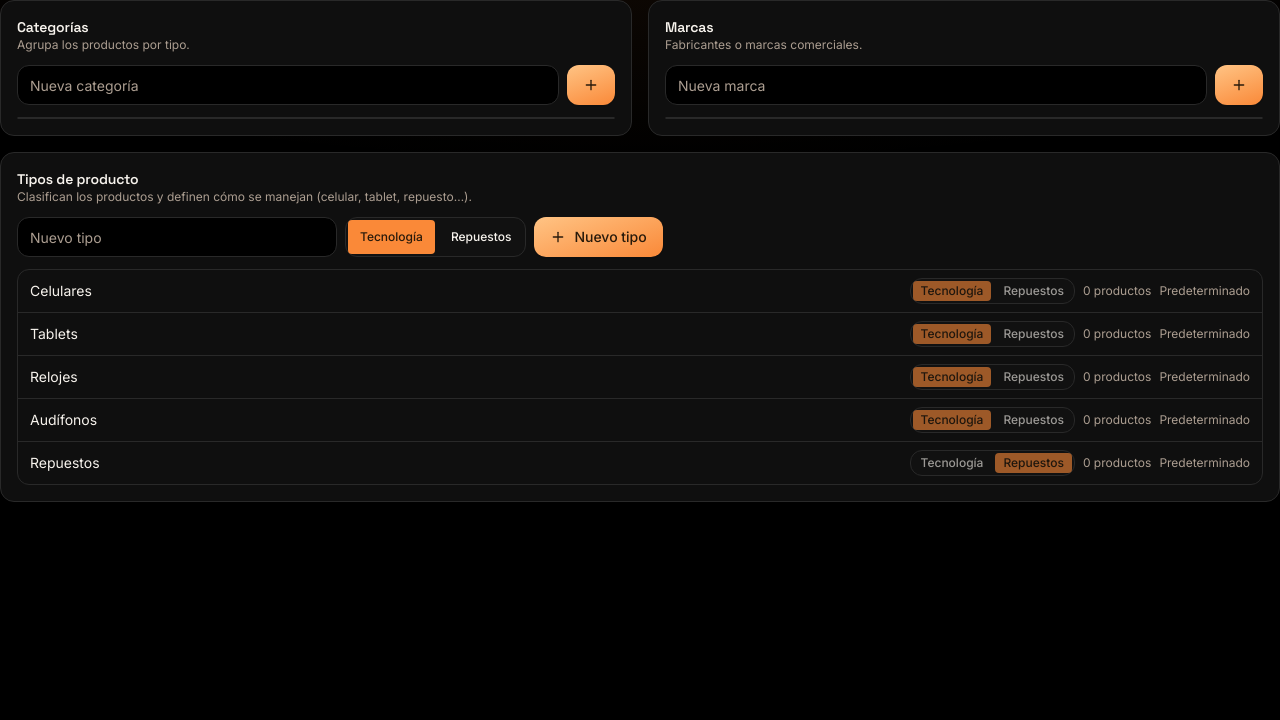
Test: Administración > Catálogos > Tipos de producto › un tipo nuevo se puede borrar si no tiene productos
This screenshot has width=1280, height=720.
Type "Parlantes" into the field with placeholder "Nuevo tipo".
click(177, 237); type("Parlantes")  # box [17, 217, 337, 257]
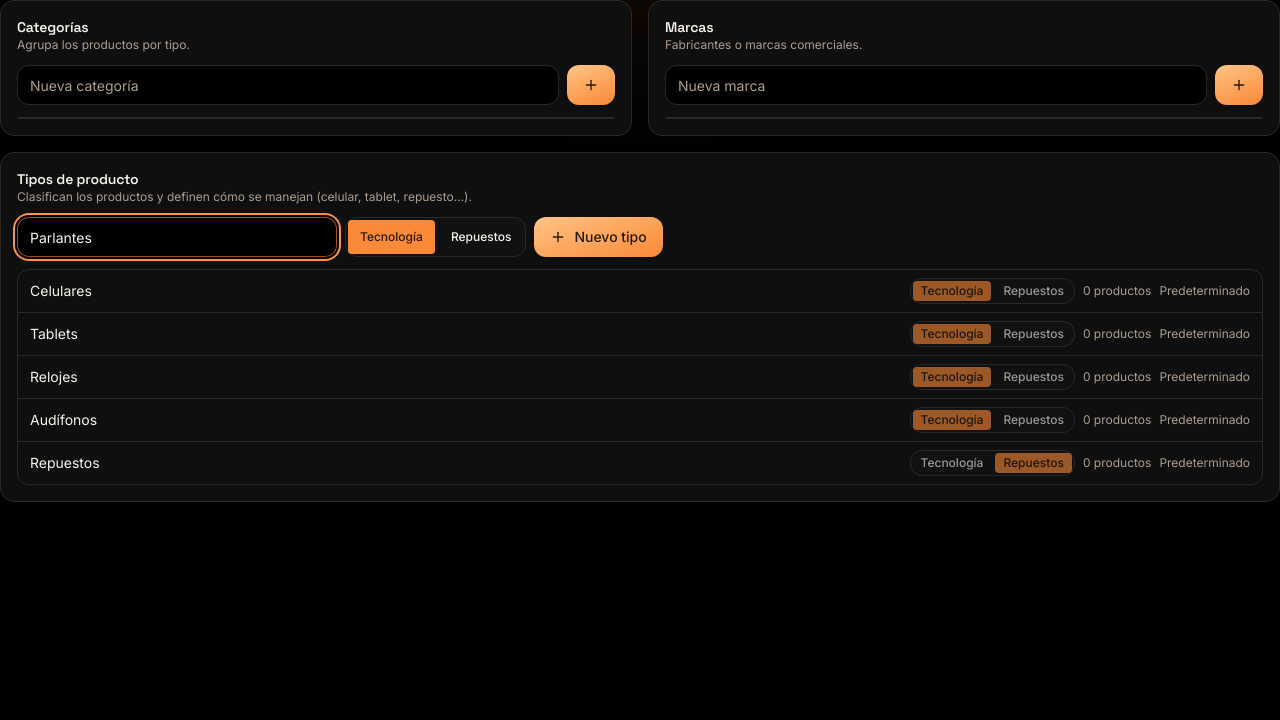
Click the button "Nuevo tipo".
click(599, 237)  # box [534, 217, 663, 257]
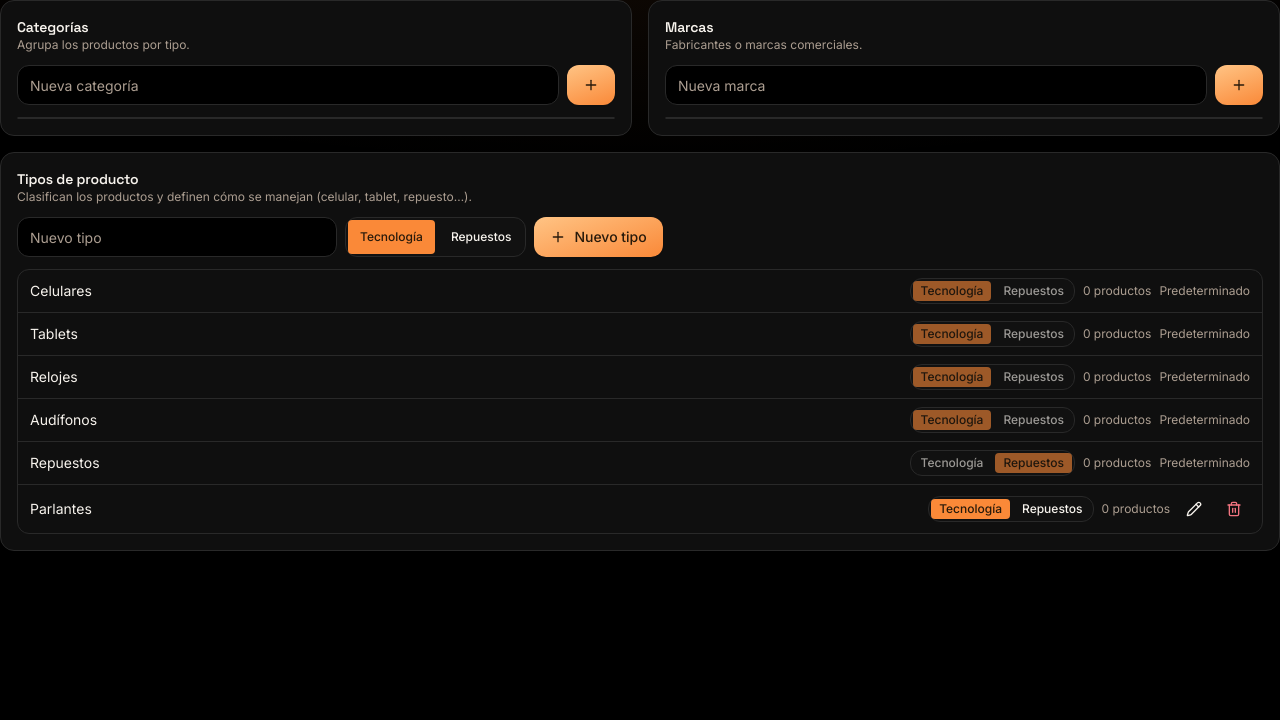
Check: the text "Parlantes" is shown, box [30, 500, 92, 517]
Click the button named "Eliminar".
click(1234, 509)  # box [1218, 493, 1250, 525]
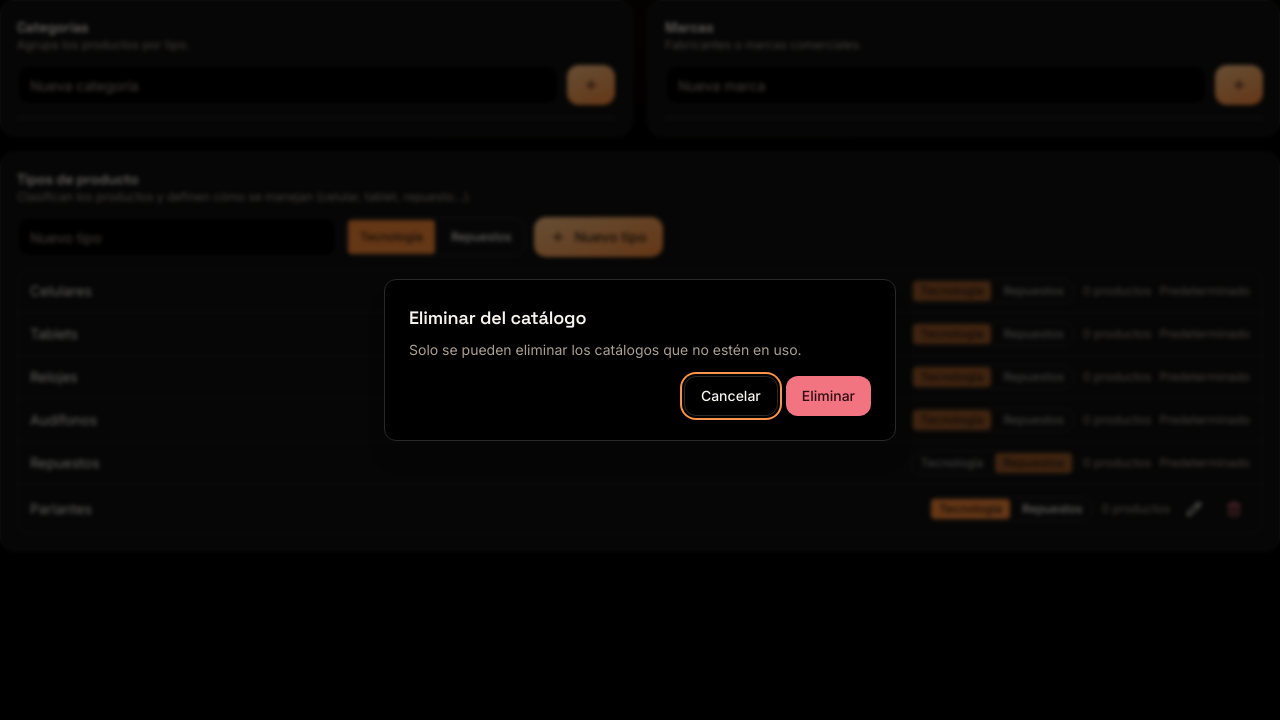
Click the button "Eliminar".
click(828, 396)  # box [786, 376, 871, 416]
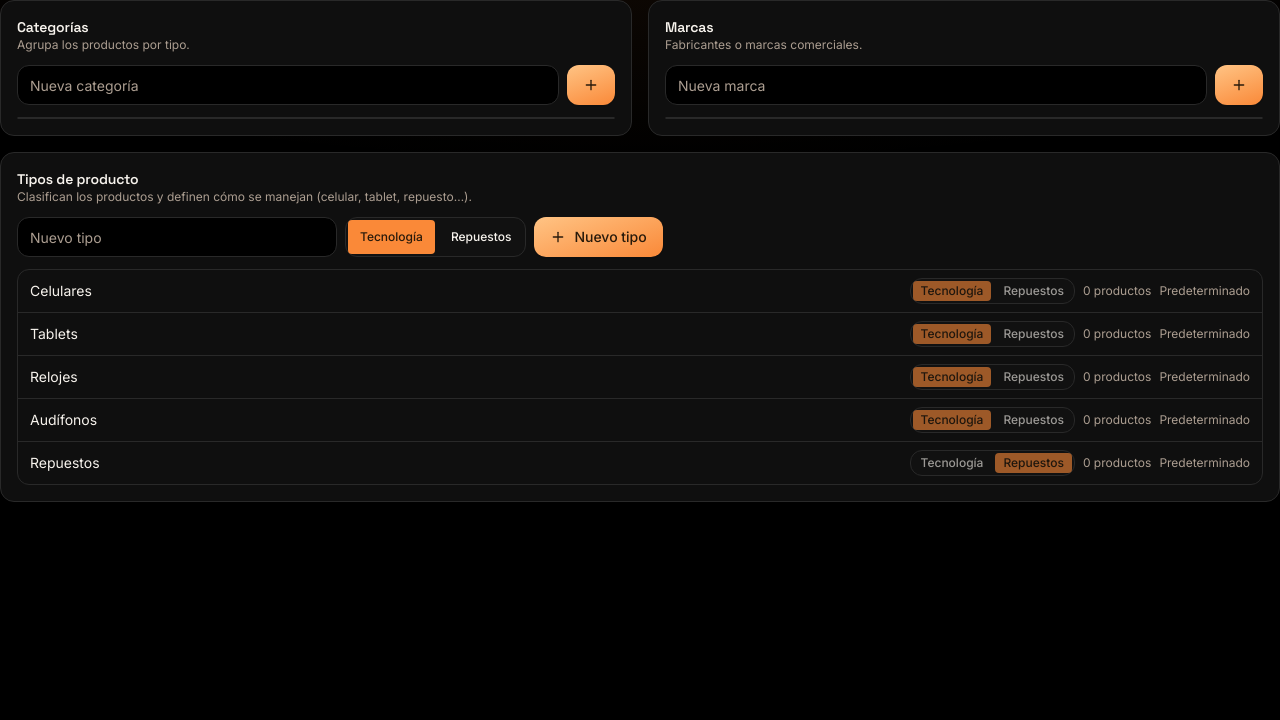
Check: the text "Parlantes" is gone
